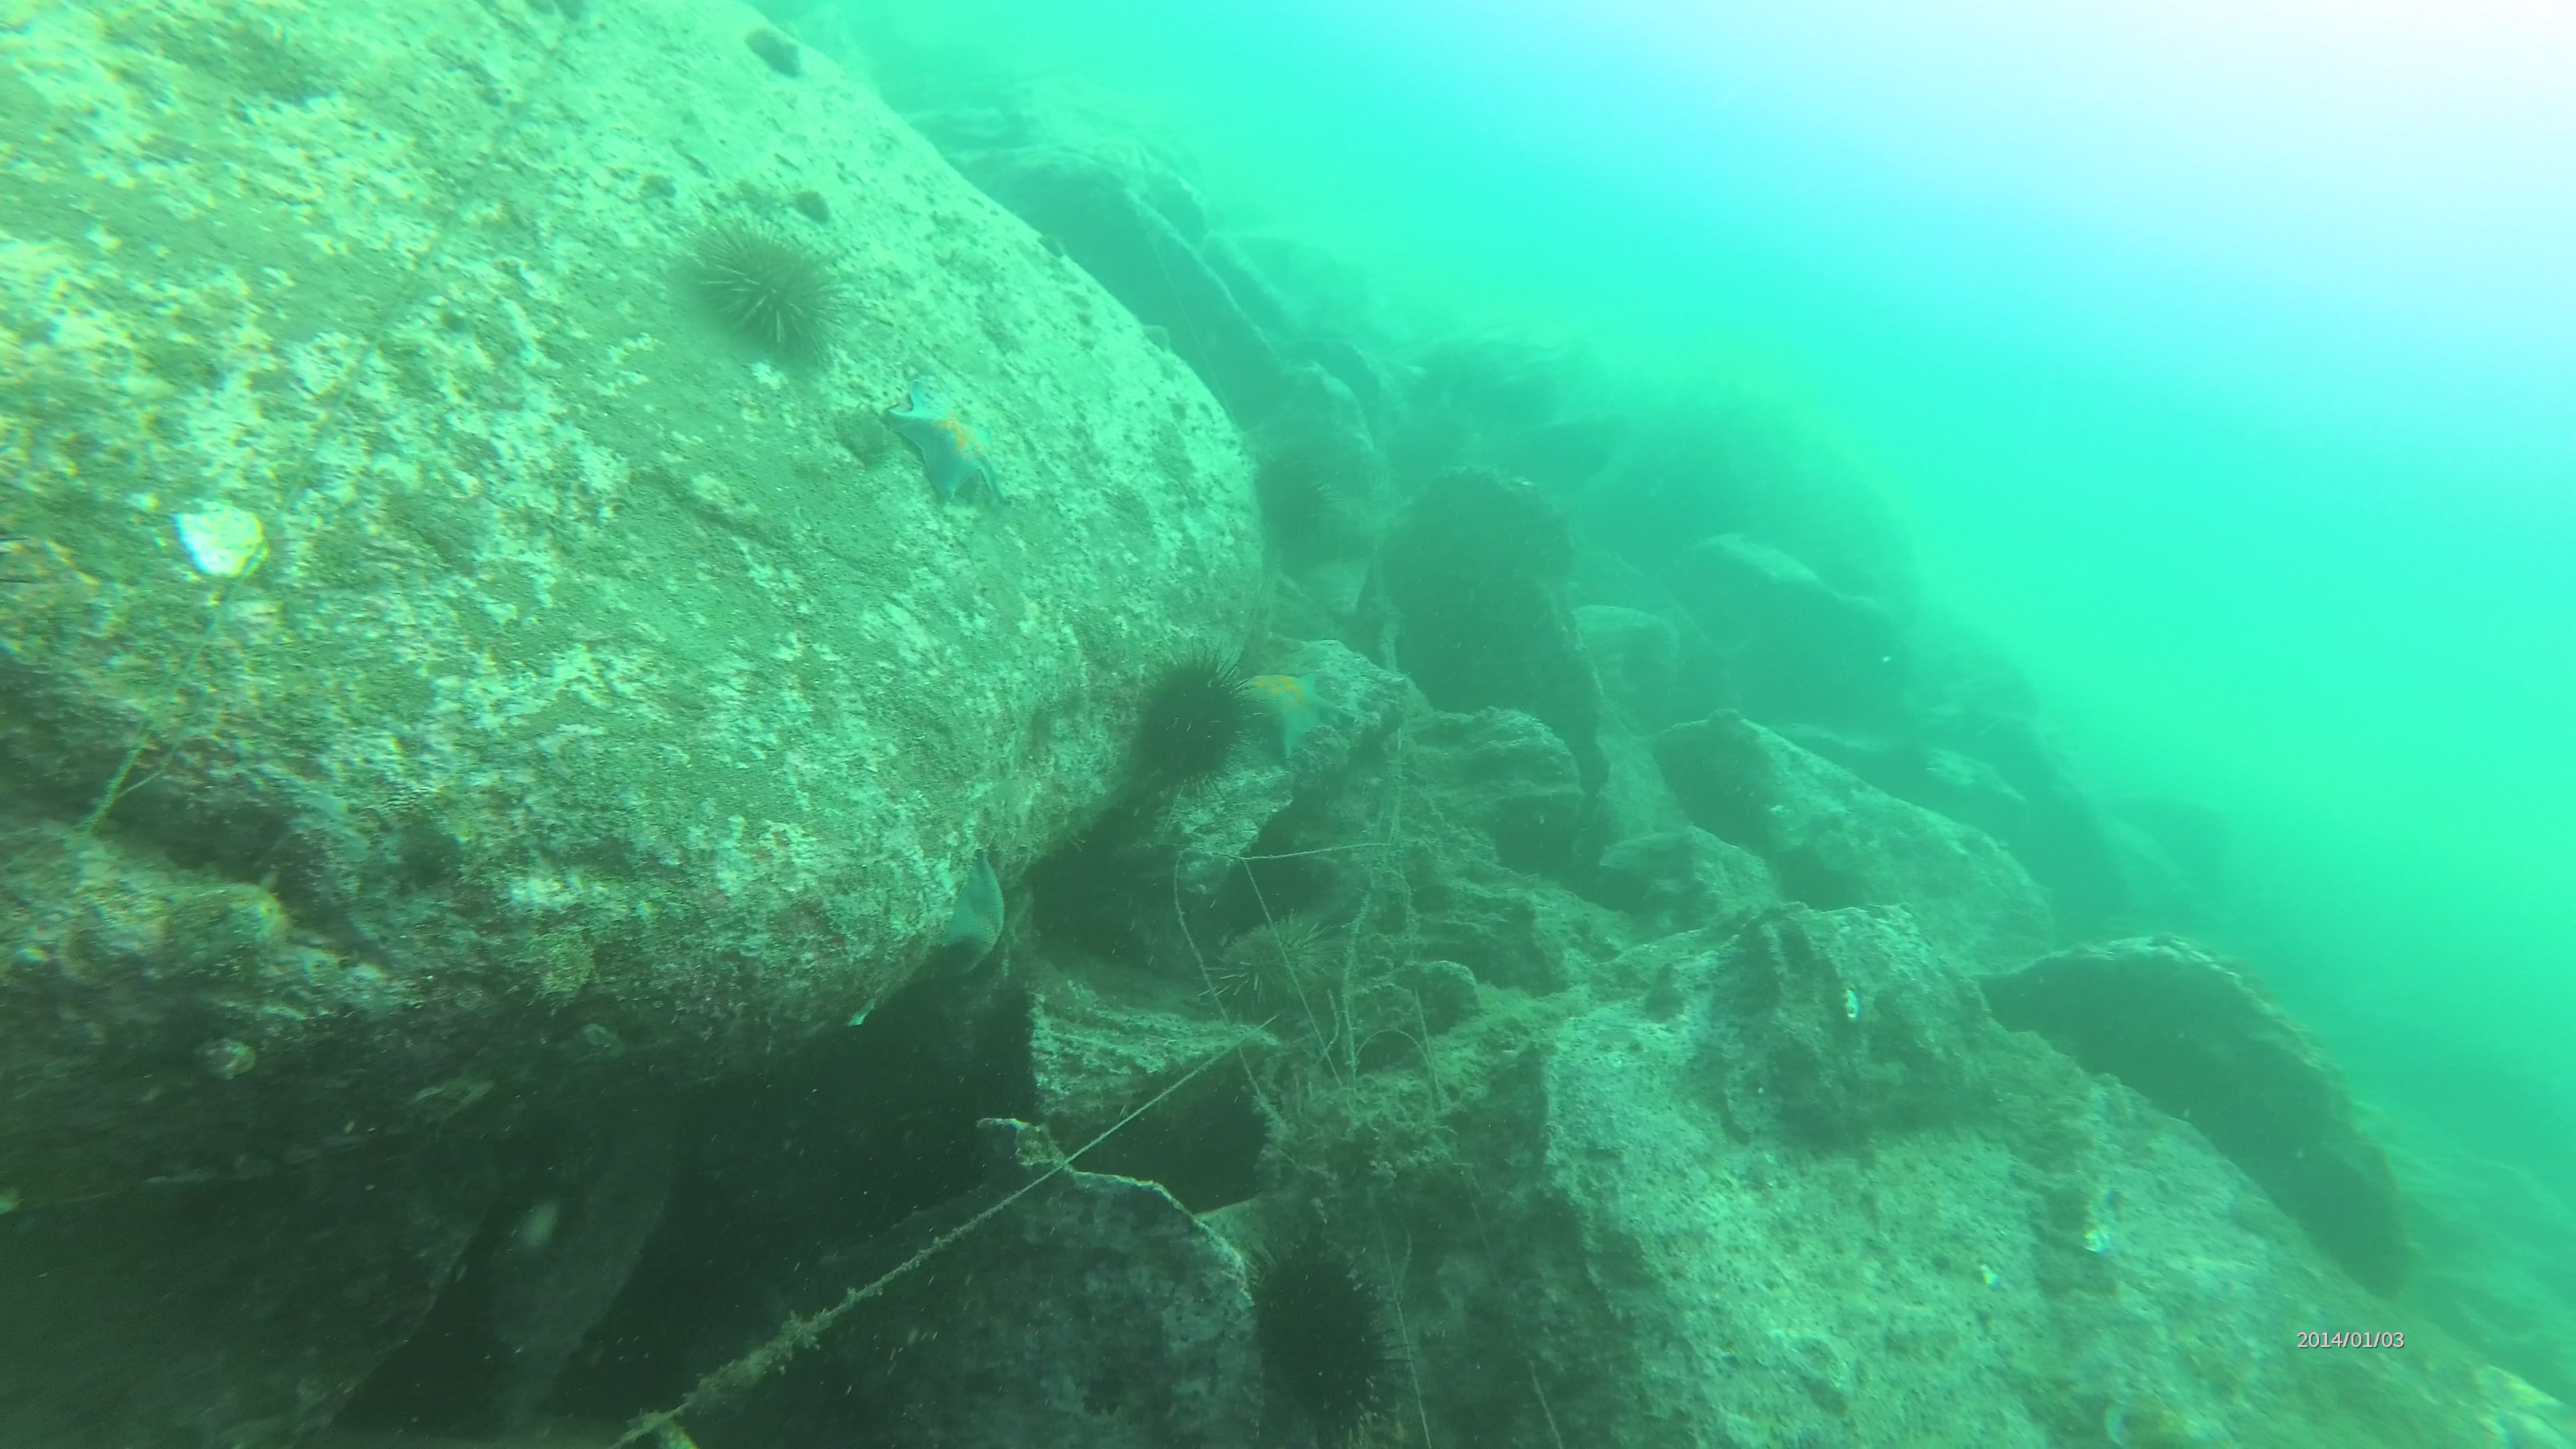echinus: (697, 225, 847, 357), (1207, 902, 1338, 1014), (1139, 658, 1242, 782), (1246, 442, 1352, 547)
starfish: (883, 382, 1010, 506), (932, 847, 1008, 996), (1238, 658, 1338, 764)
